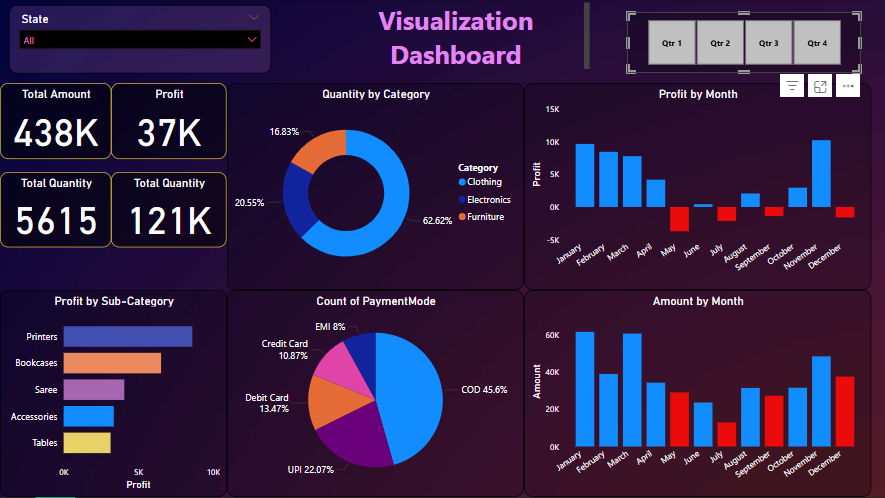

This screenshot's page, from the dashboard's own definition file:
{"tool":"powerbi","page":{"name":"Page 1","canvas":[1280,720],"ordinal":0},"visuals":[{"type":"textbox","box":[468.4,0,388.9,107],"z":0},{"type":"columnChart","title":"Profit by Month","fields":{"Category":["Orders.Order Date.Variation.Date Hierarchy.Month"],"Y":["Sum(Details.Profit)"]},"box":[757.6,121.4,501.7,299.3],"z":1000},{"type":"columnChart","title":"Amount by Month","fields":{"Category":["Orders.Order Date.Variation.Date Hierarchy.Month"],"Y":["Sum(Details.Amount)"]},"box":[757.6,420.7,501.7,299.3],"z":1001},{"type":"barChart","title":"Profit by Sub-Category","fields":{"Category":["Details.Sub-Category"],"Y":["Sum(Details.Profit)"]},"box":[0,420.7,328.2,299.3],"z":1002},{"type":"donutChart","title":"Quantity by Category","fields":{"Y":["Sum(Details.Quantity)"],"Category":["Details.Category"]},"box":[328.2,121.4,429.4,299.3],"z":1003},{"type":"card","title":"Total Amount","fields":{"Values":["Sum(Details.Amount)"]},"box":[0,120.9,161.2,110.4],"z":1004},{"type":"card","title":"Profit","fields":{"Values":["Sum(Details.Profit)"]},"box":[161.2,120.9,167.2,110.4],"z":1005},{"type":"pieChart","title":"Count of PaymentMode","fields":{"Category":["Details.PaymentMode"],"Y":["CountNonNull(Details.PaymentMode)"]},"box":[328.2,420.7,429.4,299.3],"z":1006},{"type":"card","title":"Total Quantity","fields":{"Values":["Sum(Details.Quantity)"]},"box":[0,250.7,161.2,109],"z":1007},{"type":"card","title":"Total Quantity","fields":{"Values":["Sum(Details.AoV)"]},"box":[161.2,250.7,167.2,109],"z":1008},{"type":"slicer","fields":{"Values":["Orders.Order Date.Variation.Date Hierarchy.Quarter"]},"box":[906.5,18.8,338.3,88.2],"z":1009},{"type":"slicer","fields":{"Values":["Orders.State"]},"box":[40.3,8.4,310.8,90.7],"z":1010}]}

Visuals, with their boxes in screenshot pixels (x1, y1, x2, y2), scaled from the page's 1280x720 canvas onto the 885x498 screenshot:
textbox: BBox(324, 0, 593, 74)
"Profit by Month" columnChart: BBox(524, 84, 871, 291)
"Amount by Month" columnChart: BBox(524, 291, 871, 497)
"Profit by Sub-Category" barChart: BBox(0, 291, 227, 497)
"Quantity by Category" donutChart: BBox(227, 84, 524, 291)
"Total Amount" card: BBox(0, 84, 111, 160)
"Profit" card: BBox(111, 84, 227, 160)
"Count of PaymentMode" pieChart: BBox(227, 291, 524, 497)
"Total Quantity" card: BBox(0, 173, 111, 249)
"Total Quantity" card: BBox(111, 173, 227, 249)
slicer - Orders.Order Date.Variation.Date Hierarchy.Quarter: BBox(627, 13, 861, 74)
slicer - Orders.State: BBox(28, 6, 243, 69)
